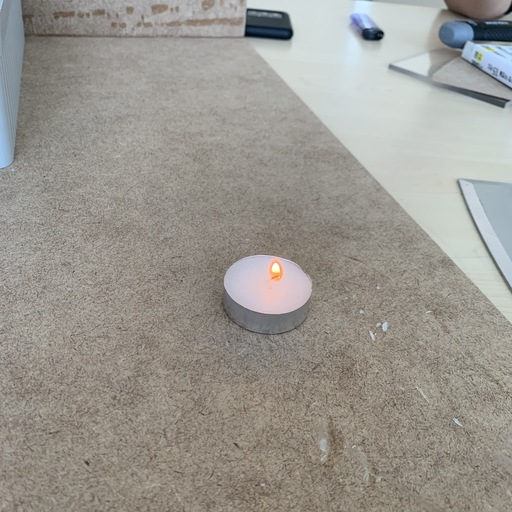fire: (266, 259, 286, 281)
